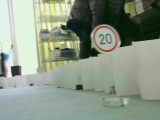speed_20: (88, 24, 122, 55)
